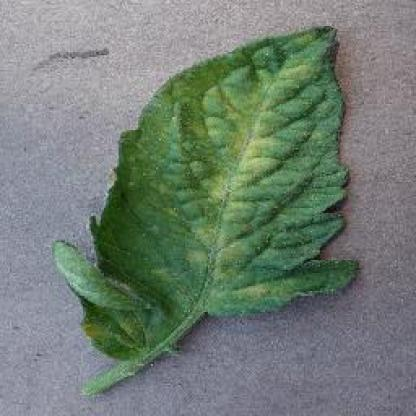bad leaf: (28, 17, 364, 397)
